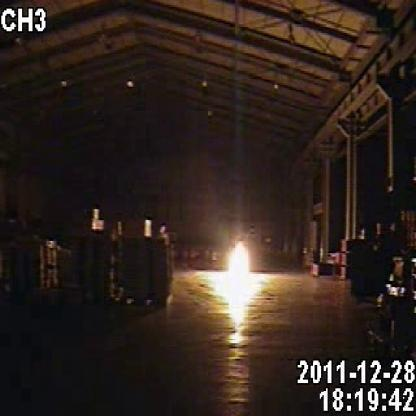fire: (198, 227, 290, 354)
